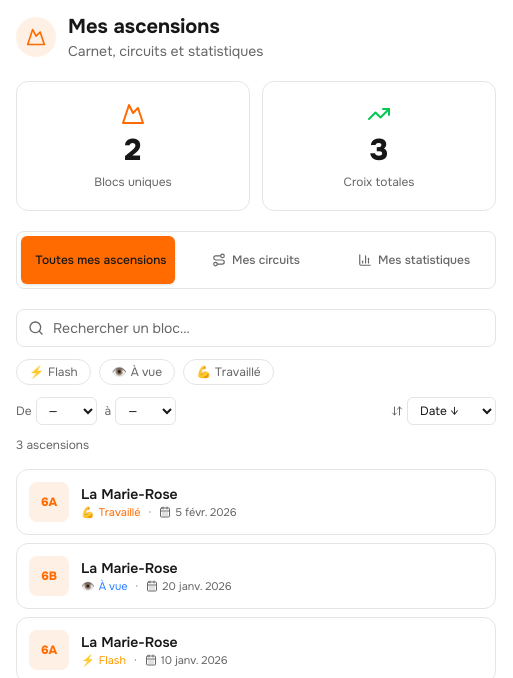
Scenario: MesAscensionsPage › with tick data › switches to the stats tab and renders the chart sections
Click the tab with test id "tab-stats" at (414, 260), box [337,236,491,284]
(page scrolled)
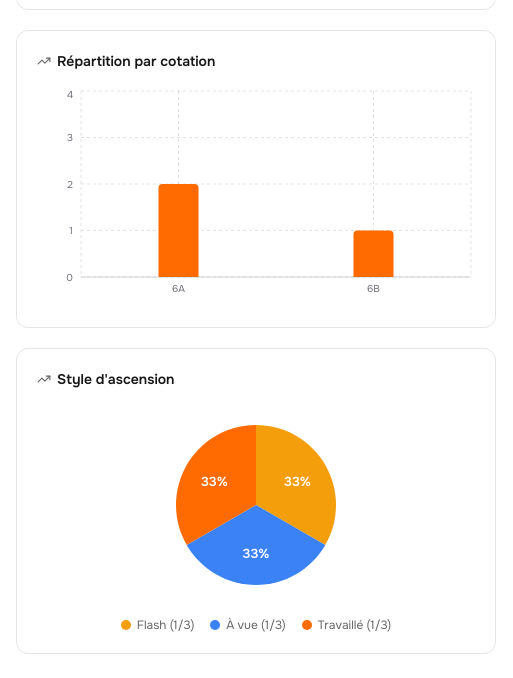
Expected: the heading "Répartition par cotation" is shown, [37,51,215,71]
Expected: the heading "Style d'ascension" is shown, [37,369,174,389]
